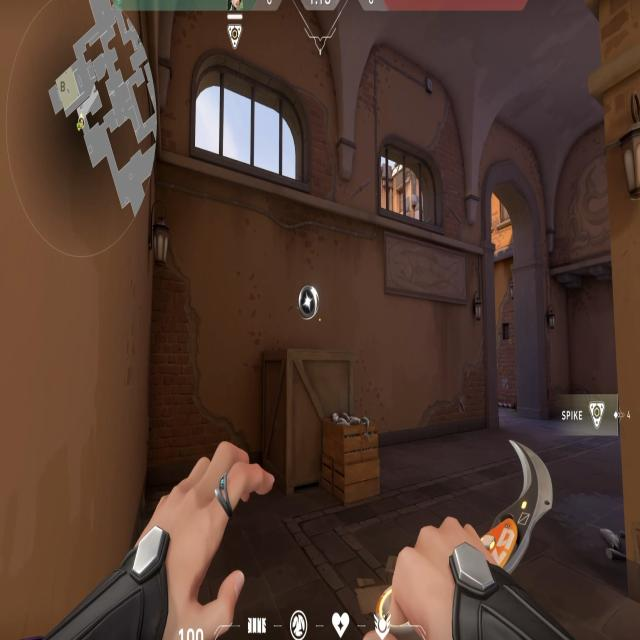B_Main_Wallbang: (250, 284, 382, 510)
Throwables: (193, 44, 318, 200), (376, 134, 445, 238)
